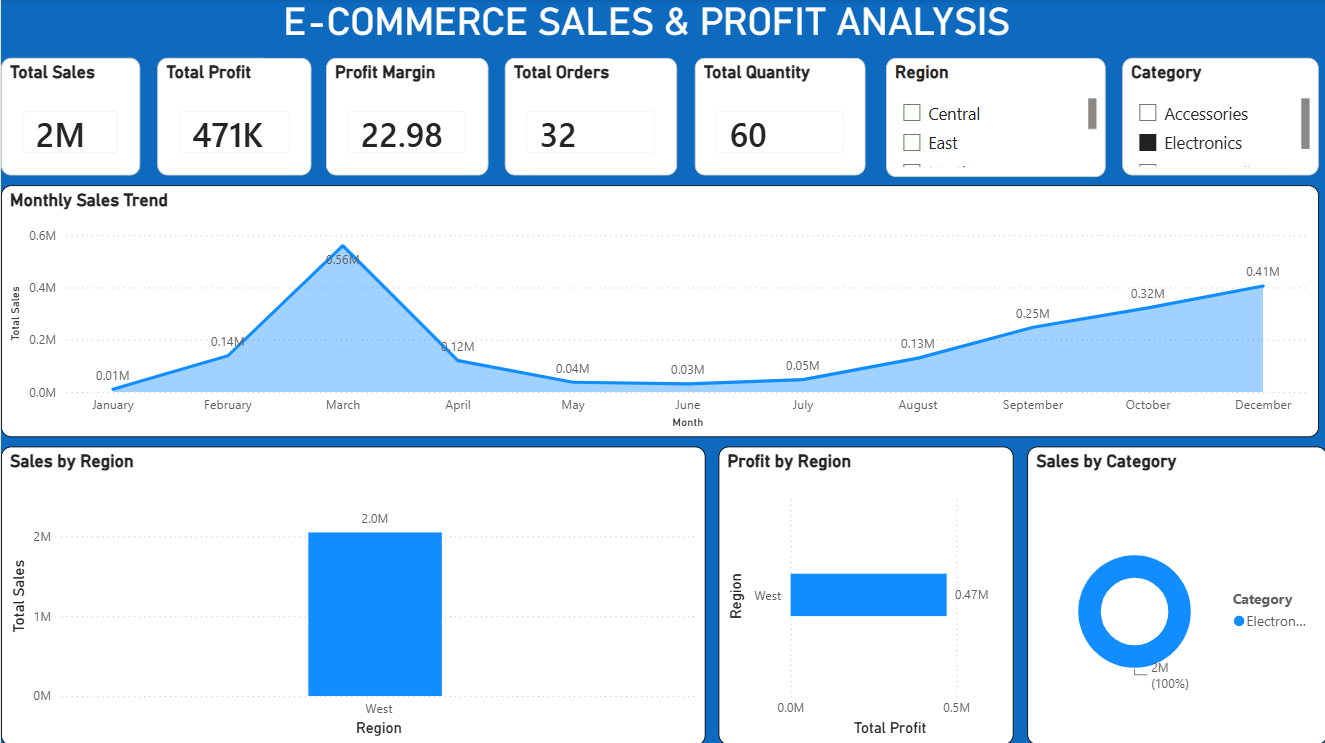

The dashboard page shown, as its layout file describes it:
{"tool":"powerbi","page":{"name":"Page 1","canvas":[1280,720],"ordinal":0},"visuals":[{"type":"cardVisual","title":"Total Sales","fields":{"Data":["Sheet1.Total Sales"]},"box":[0,56.3,134.5,113.7],"z":0},{"type":"cardVisual","title":"Total Profit","fields":{"Data":["Sheet1.Total Profit"]},"box":[150.4,56.3,149.2,113.7],"z":1000},{"type":"cardVisual","title":"Profit Margin","fields":{"Data":["Sheet1.Profit Margin"]},"box":[314.3,56.3,156.5,113.7],"z":2000},{"type":"cardVisual","title":"Total Orders","fields":{"Data":["Sheet1.Total Orders"]},"box":[486.7,56.3,166.3,113.7],"z":3000},{"type":"cardVisual","title":"Total Quantity","fields":{"Data":["Sheet1.Total Quantity"]},"box":[670.1,56.3,165.1,113.7],"z":4000},{"type":"textbox","title":"E-COMMERCE SALES & PROFIT ANALYSIS","box":[254.3,0,737.1,57.1],"z":5000},{"type":"lineChart","title":"Monthly Sales Trend","fields":{"Category":["Sheet1.Order_Date.Variation.Date Hierarchy.Month"],"Y":["Sheet1.Total Sales"]},"box":[0,179.8,1271.7,243.3],"z":6000},{"type":"clusteredColumnChart","title":"Sales by Region","fields":{"Category":["Sheet1.Region"],"Y":["Sheet1.Total Sales"]},"box":[0,431.7,679.9,288.6],"z":7000},{"type":"clusteredBarChart","title":"Profit by Region","fields":{"Category":["Sheet1.Region"],"Y":["Sheet1.Total Profit"]},"box":[692.5,431.9,284.7,288.3],"z":8000},{"type":"donutChart","title":"Sales by Category","fields":{"Category":["Sheet1.Category"],"Y":["Sheet1.Total Sales"]},"box":[990.5,431.9,289.5,288.3],"z":9000},{"type":"slicer","title":"Region","fields":{"Values":["Sheet1.Region"]},"box":[854.8,56.3,212.1,115.2],"z":10000},{"type":"slicer","title":"Category","fields":{"Values":["Sheet1.Category"]},"box":[1082.2,56.3,189.5,113.7],"z":11000}]}

Visuals, with their boxes in screenshot pixels (x1, y1, x2, y2), scaled from the page's 1280x720 canvas onto the 1325x743 screenshot:
"Total Sales" cardVisual: [0,58,139,175]
"Total Profit" cardVisual: [156,58,310,175]
"Profit Margin" cardVisual: [325,58,487,175]
"Total Orders" cardVisual: [504,58,676,175]
"Total Quantity" cardVisual: [694,58,865,175]
"E-COMMERCE SALES & PROFIT ANALYSIS" textbox: [263,0,1026,59]
"Monthly Sales Trend" lineChart: [0,186,1316,437]
"Sales by Region" clusteredColumnChart: [0,445,704,742]
"Profit by Region" clusteredBarChart: [717,446,1012,742]
"Sales by Category" donutChart: [1025,446,1324,742]
"Region" slicer: [885,58,1104,177]
"Category" slicer: [1120,58,1316,175]
